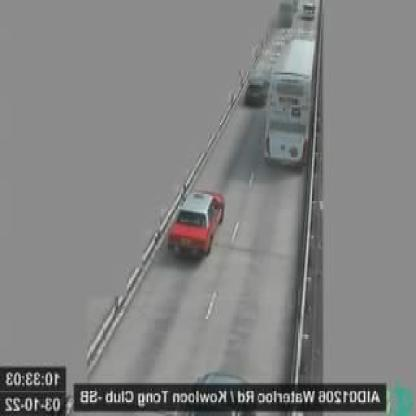Bus: (264, 40, 316, 165)
Car: (166, 189, 225, 255), (245, 73, 269, 104)
